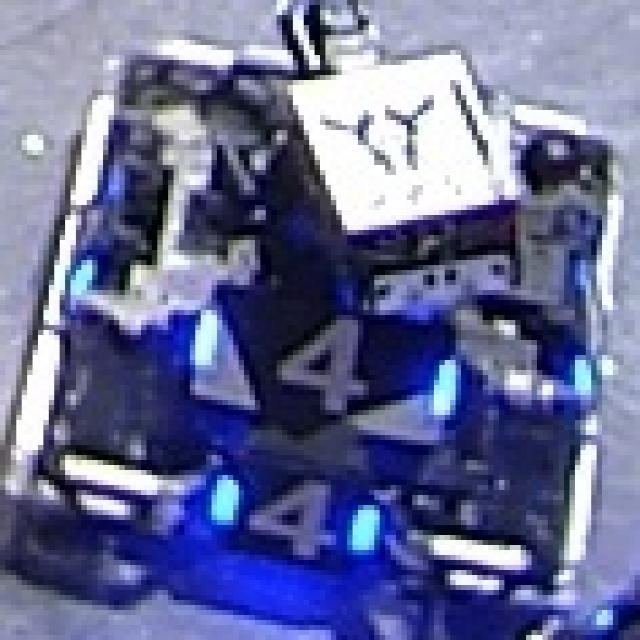B4: (206, 470, 380, 560)
